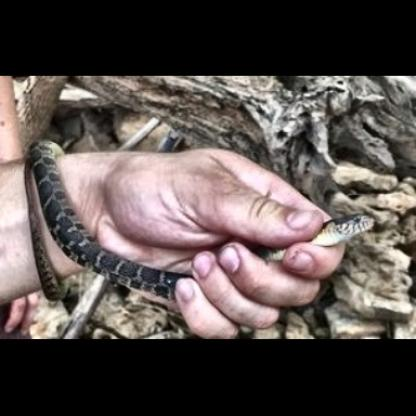Snake: (11, 127, 402, 341)
